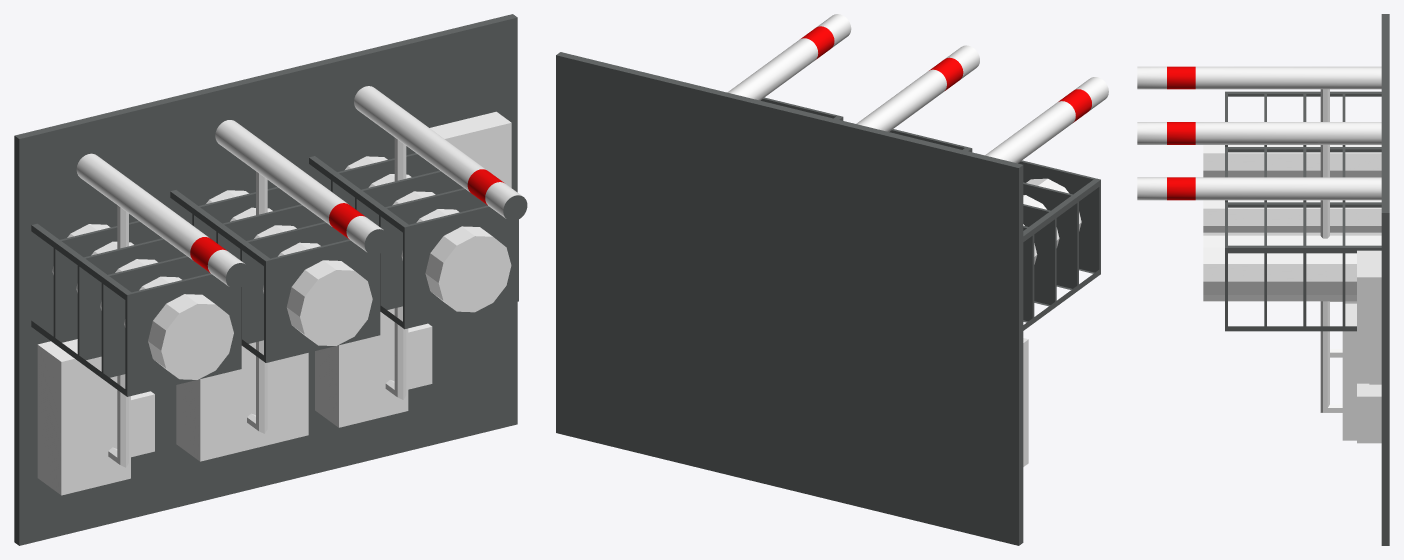
Rendered from oil_refinery.dae.
3 renders of one model, left to right at view 1: azimuth 30°, elevation 25°; view 2: azimuth 150°, elevation 25°; view 3: azimuth 270°, elevation 25°, orthographic. The views are drawn at different scales.
Visible parts, largest first — view 1: coords_ME_ID133_MA_material_4, coords_ME_ID103_MA_material_2, coords_ME_ID39_MA_material_2, coords_ME_ID213_MA_material_2, coords_ME_ID97_MA_material, coords_ME_ID73_MA_material, coords_ME_ID177_MA_material, coords_ME_ID115_MA_material, coords_ME_ID207_MA_material, coords_ME_ID33_MA_material, coords_ME_ID109_MA_material, coords_ME_ID53_MA_material (+11 smaller); view 2: coords_ME_ID133_MA_material_4, coords_ME_ID103_MA_material_2, coords_ME_ID109_MA_material, coords_ME_ID165_MA_material, coords_ME_ID53_MA_material, coords_ME_ID97_MA_material; view 3: coords_ME_ID207_MA_material, coords_ME_ID133_MA_material_4, coords_ME_ID33_MA_material, coords_ME_ID115_MA_material, coords_ME_ID213_MA_material_2, coords_ME_ID165_MA_material, coords_ME_ID109_MA_material, coords_ME_ID53_MA_material, coords_ME_ID177_MA_material, coords_ME_ID27_MA_material, coords_ME_ID171_MA_material, coords_ME_ID39_MA_material_2 (+9 smaller).
Boxes of the visible parts, bbox=[...] form: coords_ME_ID133_MA_material_4: bbox=[14, 14, 517, 545]; coords_ME_ID103_MA_material_2: bbox=[31, 220, 241, 396]; coords_ME_ID39_MA_material_2: bbox=[170, 187, 380, 362]; coords_ME_ID213_MA_material_2: bbox=[309, 153, 518, 329]; coords_ME_ID97_MA_material: bbox=[37, 339, 154, 495]; coords_ME_ID73_MA_material: bbox=[176, 342, 308, 461]; coords_ME_ID177_MA_material: bbox=[315, 308, 432, 427]; coords_ME_ID115_MA_material: bbox=[52, 224, 233, 379]; coords_ME_ID207_MA_material: bbox=[345, 156, 511, 312]; coords_ME_ID33_MA_material: bbox=[206, 190, 372, 345]; coords_ME_ID109_MA_material: bbox=[76, 153, 208, 259]; coords_ME_ID53_MA_material: bbox=[215, 120, 348, 226]; coords_ME_ID133_MA_material_4: bbox=[556, 52, 1023, 545]; coords_ME_ID103_MA_material_2: bbox=[1018, 160, 1100, 330]; coords_ME_ID109_MA_material: bbox=[985, 101, 1075, 163]; coords_ME_ID165_MA_material: bbox=[727, 38, 818, 100]; coords_ME_ID53_MA_material: bbox=[856, 69, 946, 131]; coords_ME_ID97_MA_material: bbox=[1023, 338, 1028, 466]; coords_ME_ID207_MA_material: bbox=[1203, 232, 1381, 301]; coords_ME_ID133_MA_material_4: bbox=[1381, 14, 1389, 545]; coords_ME_ID33_MA_material: bbox=[1203, 200, 1381, 232]; coords_ME_ID115_MA_material: bbox=[1203, 145, 1381, 177]; coords_ME_ID213_MA_material_2: bbox=[1225, 202, 1381, 331]; coords_ME_ID165_MA_material: bbox=[1195, 177, 1381, 200]; coords_ME_ID109_MA_material: bbox=[1195, 66, 1381, 89]; coords_ME_ID53_MA_material: bbox=[1195, 122, 1381, 144]; coords_ME_ID177_MA_material: bbox=[1342, 303, 1381, 443]; coords_ME_ID27_MA_material: bbox=[1357, 250, 1381, 384]; coords_ME_ID171_MA_material: bbox=[1320, 200, 1342, 412]; coords_ME_ID39_MA_material_2: bbox=[1225, 147, 1381, 202].
Bounding box in the file's own units: 187 × 146 × 100.
